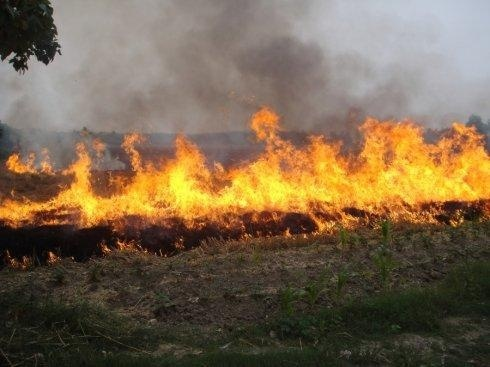fire: (34, 93, 490, 248)
